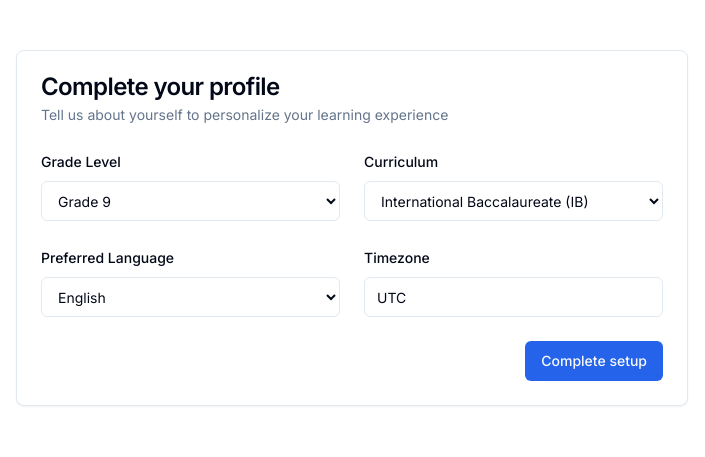
Scenario: SetupProfilePage › Profile Creation - Error Cases › should handle database errors during profile creation
The width and height of the screenshot is (705, 457).
Click the button "Complete setup" at x=594, y=361, box x1=525 y1=341 x2=663 y2=381
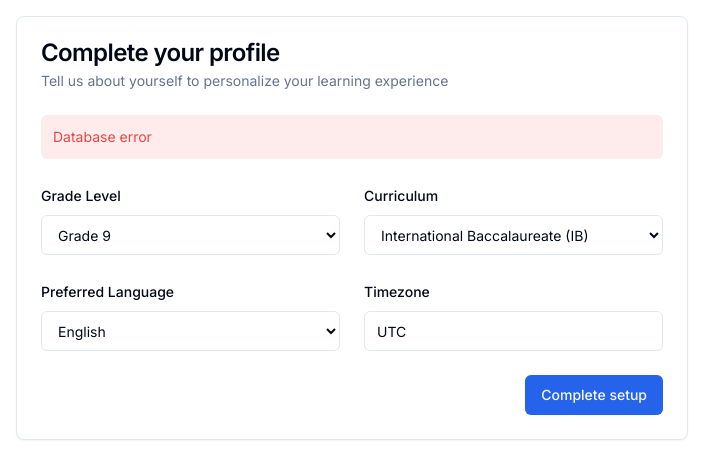
Result: the text "Database error" is shown at x1=41 y1=115 x2=663 y2=159
